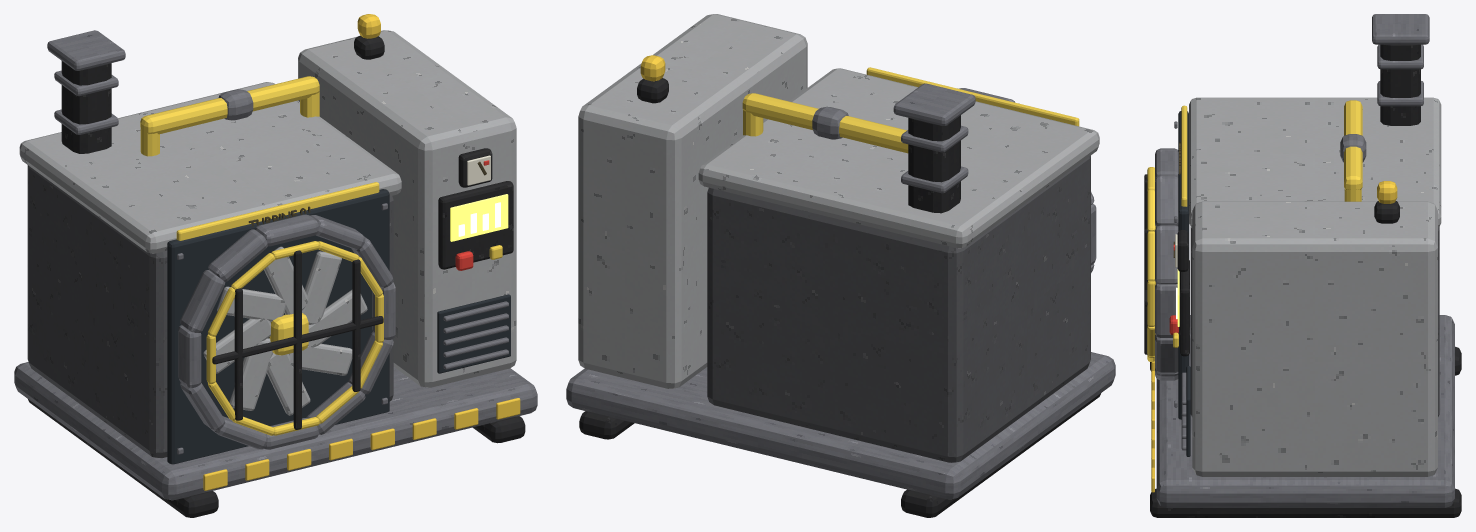
The model's file is decor_eng_generator_turbine.glb.
3 renders of one model, left to right at view 1: azimuth 30°, elevation 25°; view 2: azimuth 150°, elevation 25°; view 3: azimuth 270°, elevation 25°, orthographic. The views are drawn at different scales.
Visible parts, largest first — view 1: DEC_EngGeneratorTurbine__Service_Cabinet, DEC_EngGeneratorTurbine__Motor_Top_Cowl, DEC_EngGeneratorTurbine__Motor_Housing, DEC_EngGeneratorTurbine__Intake_Shadow, DEC_EngGeneratorTurbine__Structural_Base, DEC_EngGeneratorTurbine__Exhaust_Riser, DEC_EngGeneratorTurbine__Control_Bezel, DEC_EngGeneratorTurbine__Coolant_Bridge, DEC_EngGeneratorTurbine__Cabinet_Cooling_Recess, DEC_EngGeneratorTurbine__Serial_Band, DEC_EngGeneratorTurbine__Exhaust_Rain_Cap, DEC_EngGeneratorTurbine__Turbine_Blade_2 (+32 smaller); view 2: DEC_EngGeneratorTurbine__Motor_Housing, DEC_EngGeneratorTurbine__Service_Cabinet, DEC_EngGeneratorTurbine__Motor_Top_Cowl, DEC_EngGeneratorTurbine__Structural_Base, DEC_EngGeneratorTurbine__Exhaust_Riser, DEC_EngGeneratorTurbine__Coolant_Bridge, DEC_EngGeneratorTurbine__Exhaust_Rain_Cap, DEC_EngGeneratorTurbine__Serial_Band, DEC_EngGeneratorTurbine__Skid_-0.99, DEC_EngGeneratorTurbine__Skid_0.99, DEC_EngGeneratorTurbine__Coolant_Union, DEC_EngGeneratorTurbine__Exhaust_Band_1.85 (+2 smaller); view 3: DEC_EngGeneratorTurbine__Service_Cabinet, DEC_EngGeneratorTurbine__Motor_Top_Cowl, DEC_EngGeneratorTurbine__Structural_Base, DEC_EngGeneratorTurbine__Skid_0.99, DEC_EngGeneratorTurbine__Exhaust_Riser, DEC_EngGeneratorTurbine__Exhaust_Rain_Cap, DEC_EngGeneratorTurbine__Coolant_Bridge, DEC_EngGeneratorTurbine__Intake_Shadow, DEC_EngGeneratorTurbine__Intake_Outer_Flange_02, DEC_EngGeneratorTurbine__Intake_Outer_Flange_03, DEC_EngGeneratorTurbine__Intake_Outer_Flange_01, DEC_EngGeneratorTurbine__Motor_Housing (+14 smaller).
Part boxes in pixels (x1,y1,x2,y2): DEC_EngGeneratorTurbine__Service_Cabinet: (298, 30, 516, 387); DEC_EngGeneratorTurbine__Motor_Top_Cowl: (19, 82, 401, 253); DEC_EngGeneratorTurbine__Motor_Housing: (27, 165, 393, 458); DEC_EngGeneratorTurbine__Intake_Shadow: (167, 189, 389, 464); DEC_EngGeneratorTurbine__Structural_Base: (14, 362, 537, 500); DEC_EngGeneratorTurbine__Exhaust_Riser: (61, 61, 111, 153); DEC_EngGeneratorTurbine__Control_Bezel: (438, 181, 513, 269); DEC_EngGeneratorTurbine__Coolant_Bridge: (140, 76, 319, 134); DEC_EngGeneratorTurbine__Cabinet_Cooling_Recess: (437, 294, 510, 373); DEC_EngGeneratorTurbine__Serial_Band: (176, 182, 379, 240); DEC_EngGeneratorTurbine__Exhaust_Rain_Cap: (47, 30, 125, 70); DEC_EngGeneratorTurbine__Turbine_Blade_2: (302, 251, 341, 324); DEC_EngGeneratorTurbine__Motor_Housing: (707, 155, 1090, 462); DEC_EngGeneratorTurbine__Service_Cabinet: (578, 14, 807, 388); DEC_EngGeneratorTurbine__Motor_Top_Cowl: (698, 68, 1099, 248); DEC_EngGeneratorTurbine__Structural_Base: (566, 352, 1115, 499); DEC_EngGeneratorTurbine__Exhaust_Riser: (908, 115, 960, 213); DEC_EngGeneratorTurbine__Coolant_Bridge: (742, 93, 908, 153); DEC_EngGeneratorTurbine__Exhaust_Rain_Cap: (893, 83, 975, 125); DEC_EngGeneratorTurbine__Serial_Band: (866, 67, 1079, 126); DEC_EngGeneratorTurbine__Skid_-0.99: (901, 393, 1100, 517); DEC_EngGeneratorTurbine__Skid_0.99: (579, 411, 634, 439); DEC_EngGeneratorTurbine__Coolant_Union: (812, 106, 848, 139); DEC_EngGeneratorTurbine__Exhaust_Band_1.85: (901, 166, 968, 193); DEC_EngGeneratorTurbine__Service_Cabinet: (1192, 201, 1437, 476); DEC_EngGeneratorTurbine__Motor_Top_Cowl: (1189, 97, 1441, 228); DEC_EngGeneratorTurbine__Structural_Base: (1156, 315, 1454, 507); DEC_EngGeneratorTurbine__Skid_0.99: (1150, 488, 1461, 517); DEC_EngGeneratorTurbine__Exhaust_Riser: (1380, 44, 1420, 125); DEC_EngGeneratorTurbine__Exhaust_Rain_Cap: (1372, 14, 1429, 44); DEC_EngGeneratorTurbine__Coolant_Bridge: (1344, 100, 1362, 189); DEC_EngGeneratorTurbine__Intake_Shadow: (1178, 111, 1189, 419); DEC_EngGeneratorTurbine__Intake_Outer_Flange_02: (1155, 225, 1178, 284); DEC_EngGeneratorTurbine__Intake_Outer_Flange_03: (1155, 176, 1178, 226); DEC_EngGeneratorTurbine__Intake_Outer_Flange_01: (1155, 283, 1177, 337); DEC_EngGeneratorTurbine__Motor_Housing: (1190, 227, 1439, 416).
Bounding box in the file's own units: 2.43 × 2.3 × 1.87.
12 materials, 4 textured.
